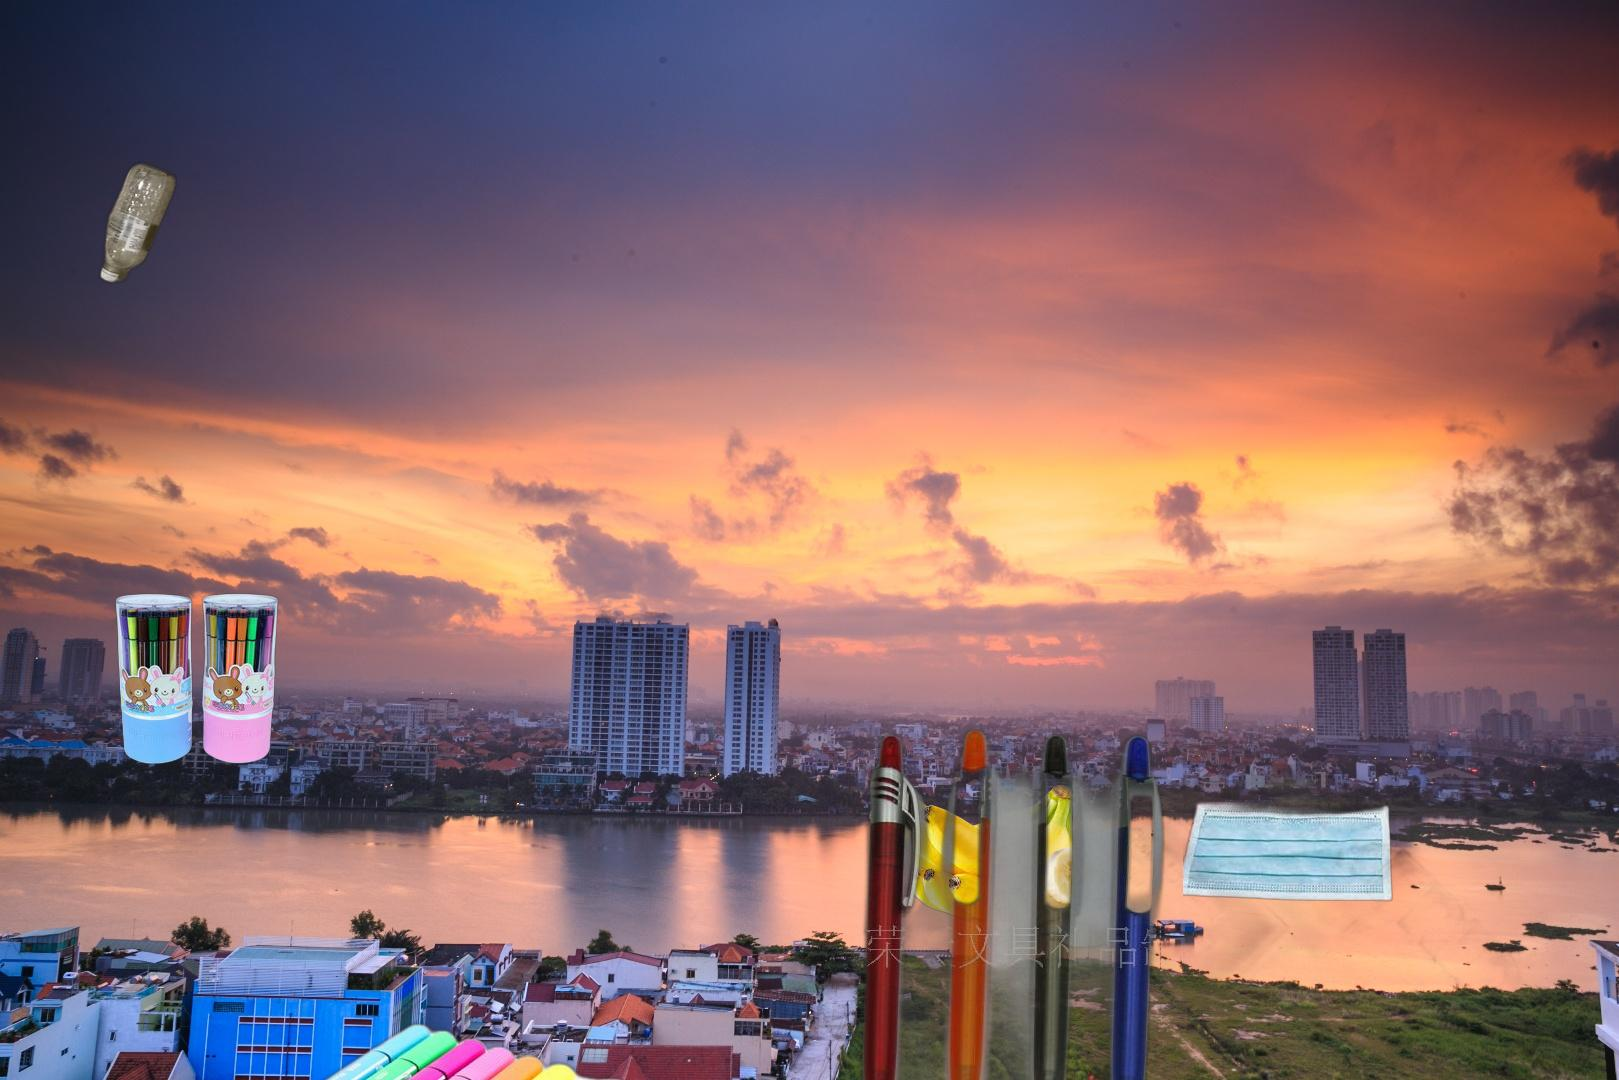biological: (866, 782, 1130, 959)
paper: (1089, 783, 1600, 1080)
penholder: (856, 721, 1240, 1080), (206, 1019, 819, 1080), (113, 591, 281, 767)
plastic-bottles: (95, 157, 181, 289)
trash: (1183, 702, 1397, 904)
